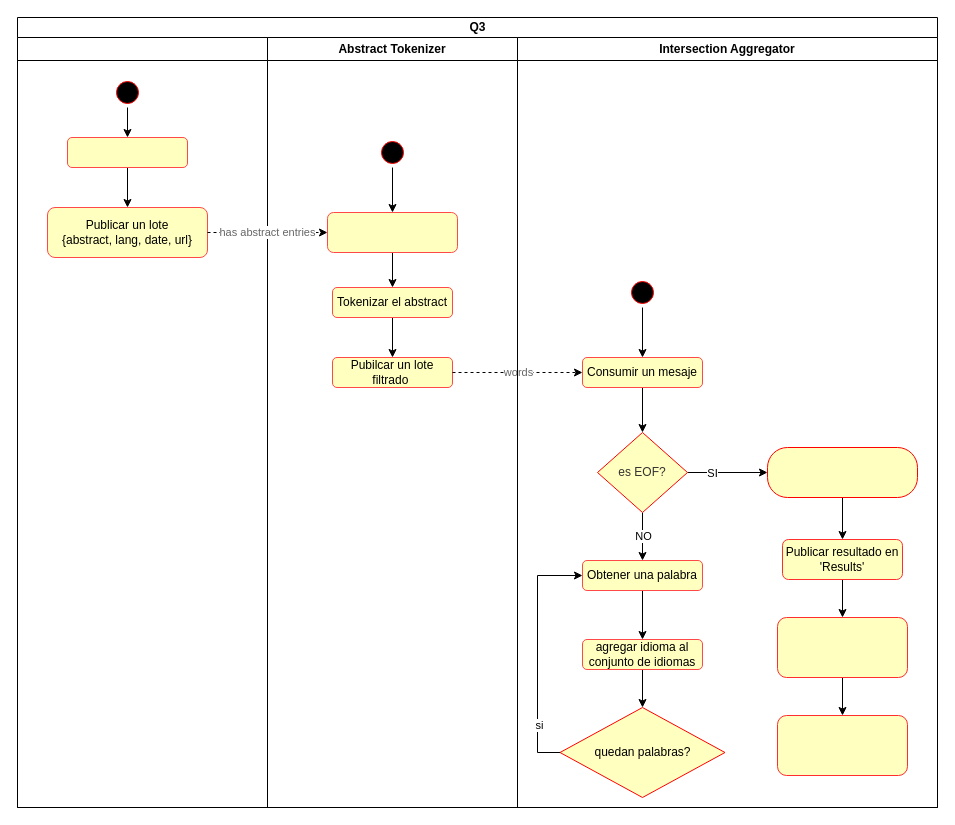
This 955x825 diagram has some shape labels left out. The shapes that lost their labels are listed below. From the top down, each one's box as (x1, y1, x2, y2) in pixels, then its label:
(66, 136, 188, 168): Consumir un lote
(326, 212, 458, 252): Consumir un mensaje
(16, 36, 268, 808): Entry Router
(766, 446, 918, 498): Seleccionar las palabras cuyo conjunto contiene EN FR
(776, 616, 908, 678): Publicar EOF en 'Results'
(776, 714, 908, 776): Limpiar estado
